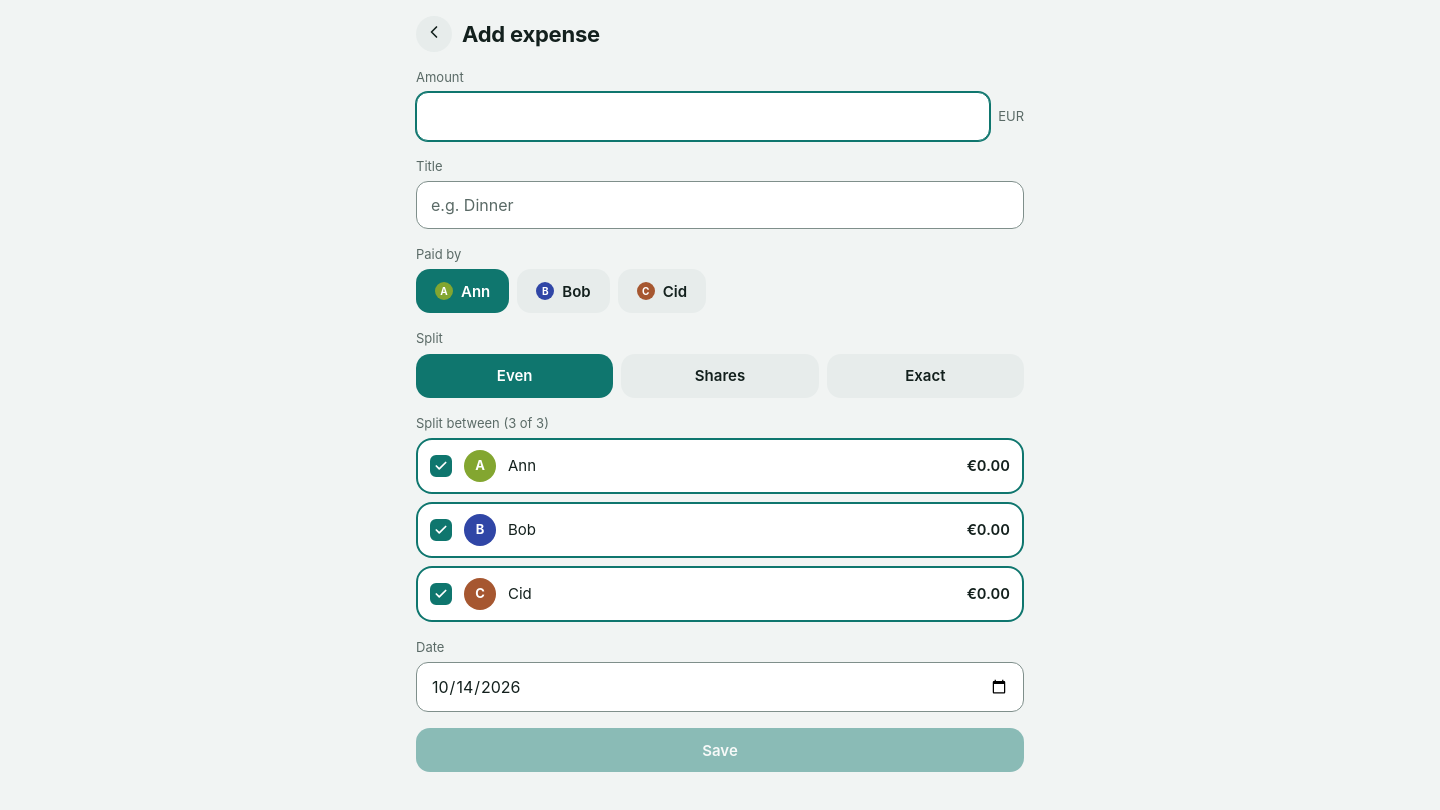
Test: the Shares split mode › offers steppers, not a numeric keyboard
Type "30" into the field with class "amount-input" at (703,116), box [416,92,990,141]
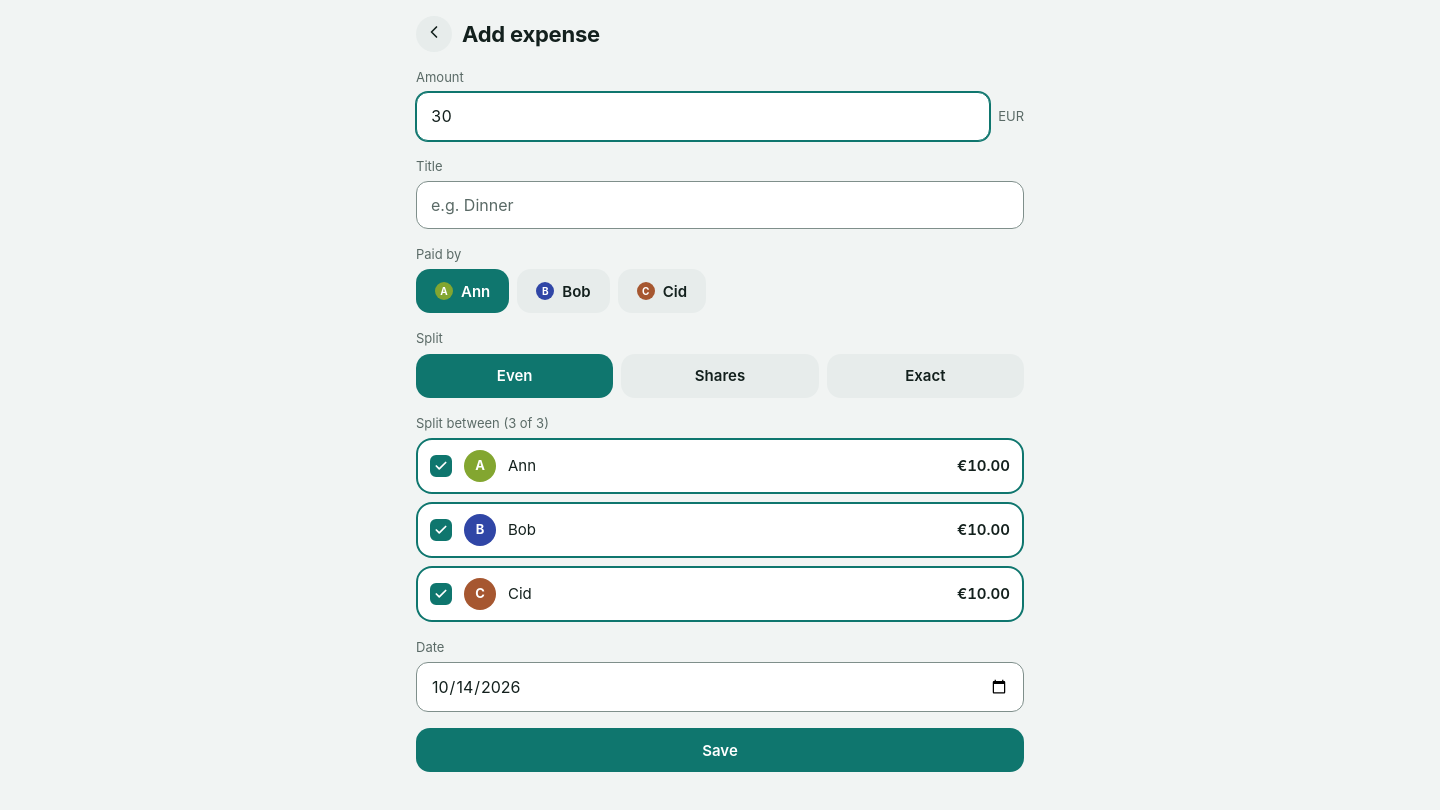
Press the mouse on the button "Shares" at (720,376), box [621,354,819,398]
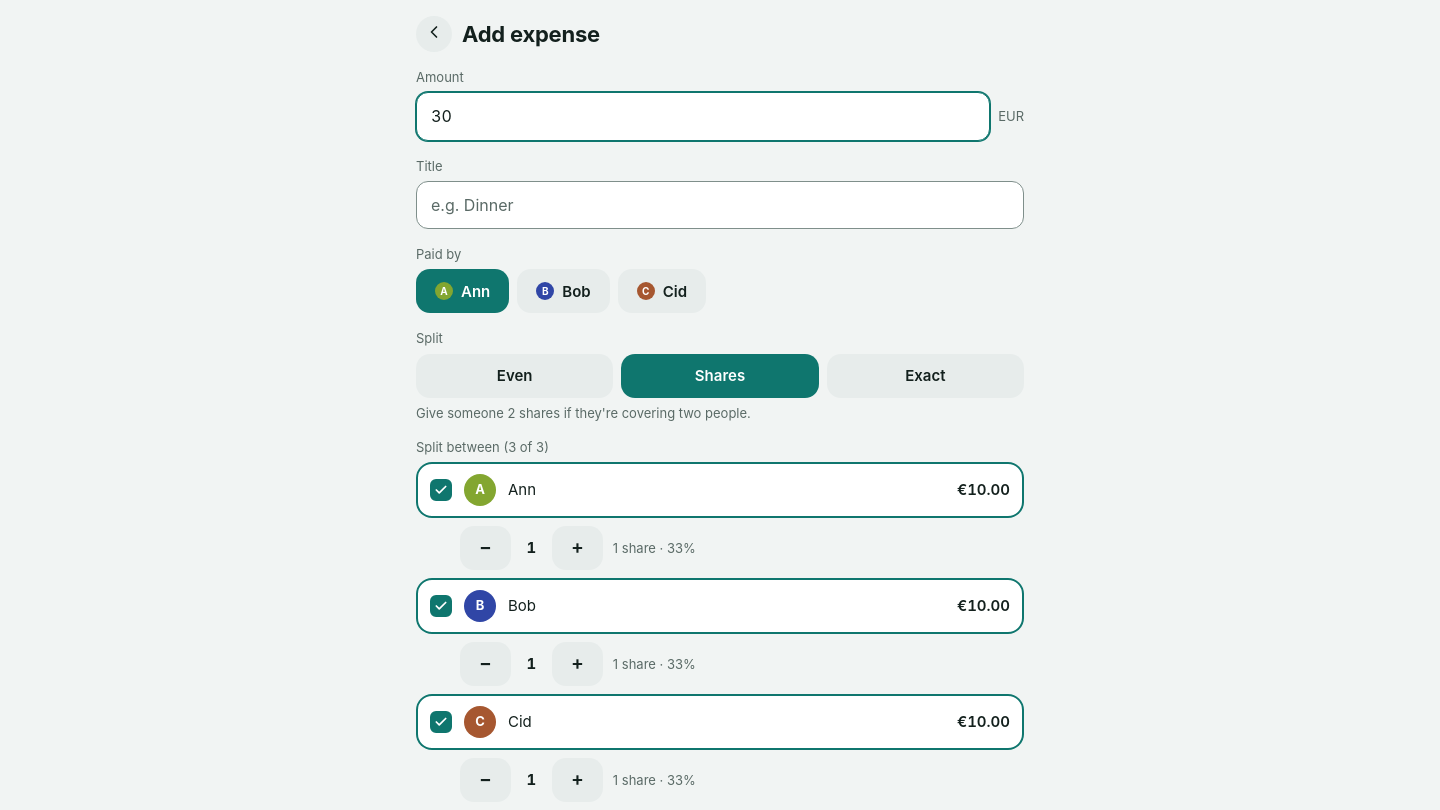
Expected: the number of elements with class "stepper" is 3, [460,526,603,570]; [460,642,603,686]; [460,758,603,802]
Expected: the 1st element with class "stepper" is shown, [460,526,603,570]
